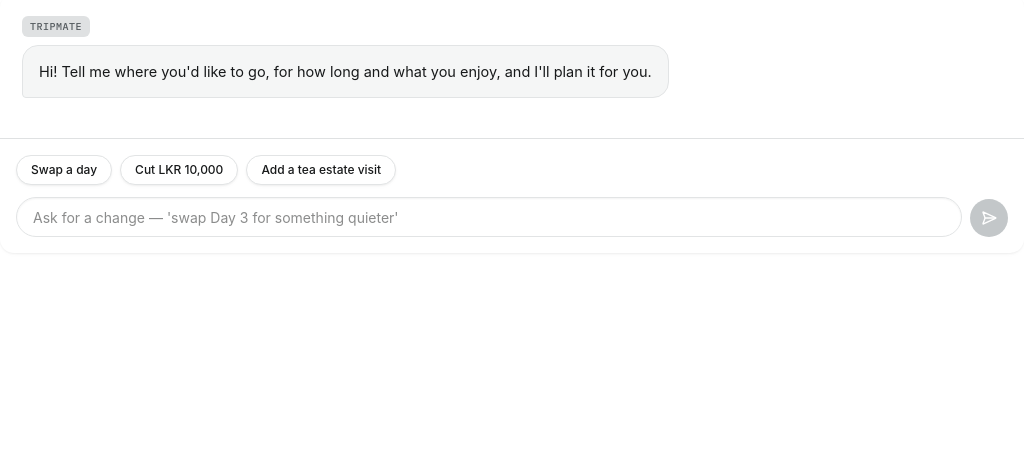
Test: ChatPanel › shows TripMate's reply
Type "hello" into the text box named "Message".
click(489, 218); type("hello")  # box [16,198,962,238]
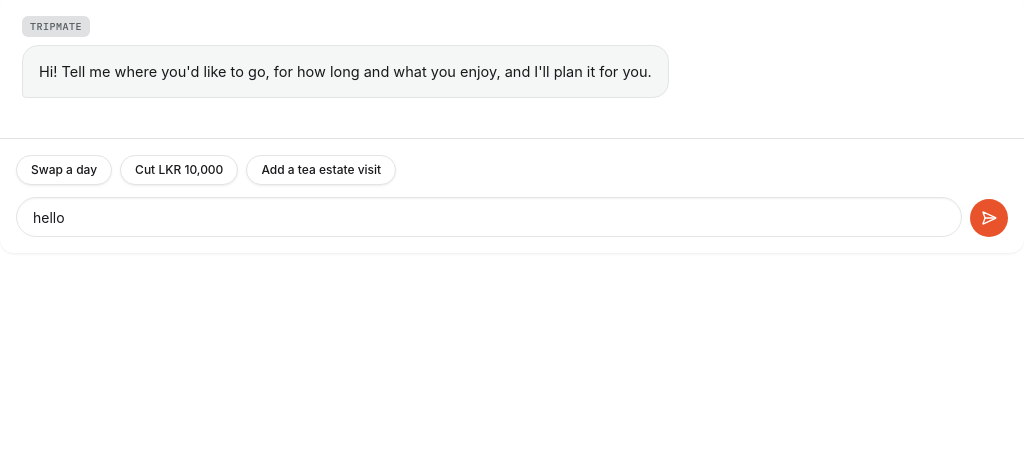
Press Enter in the text box named "Message", box [16,198,962,238]
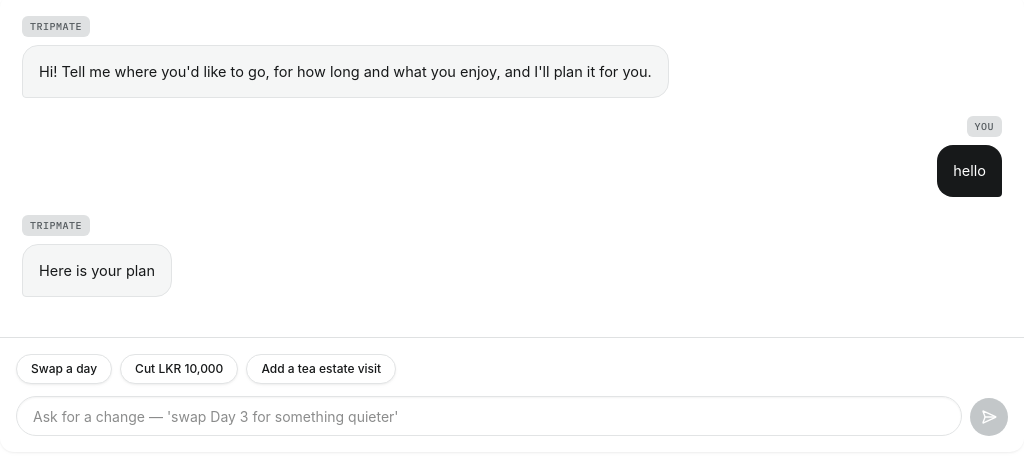
Expected: the text "Here is your plan" is shown, [39,259,155,282]
